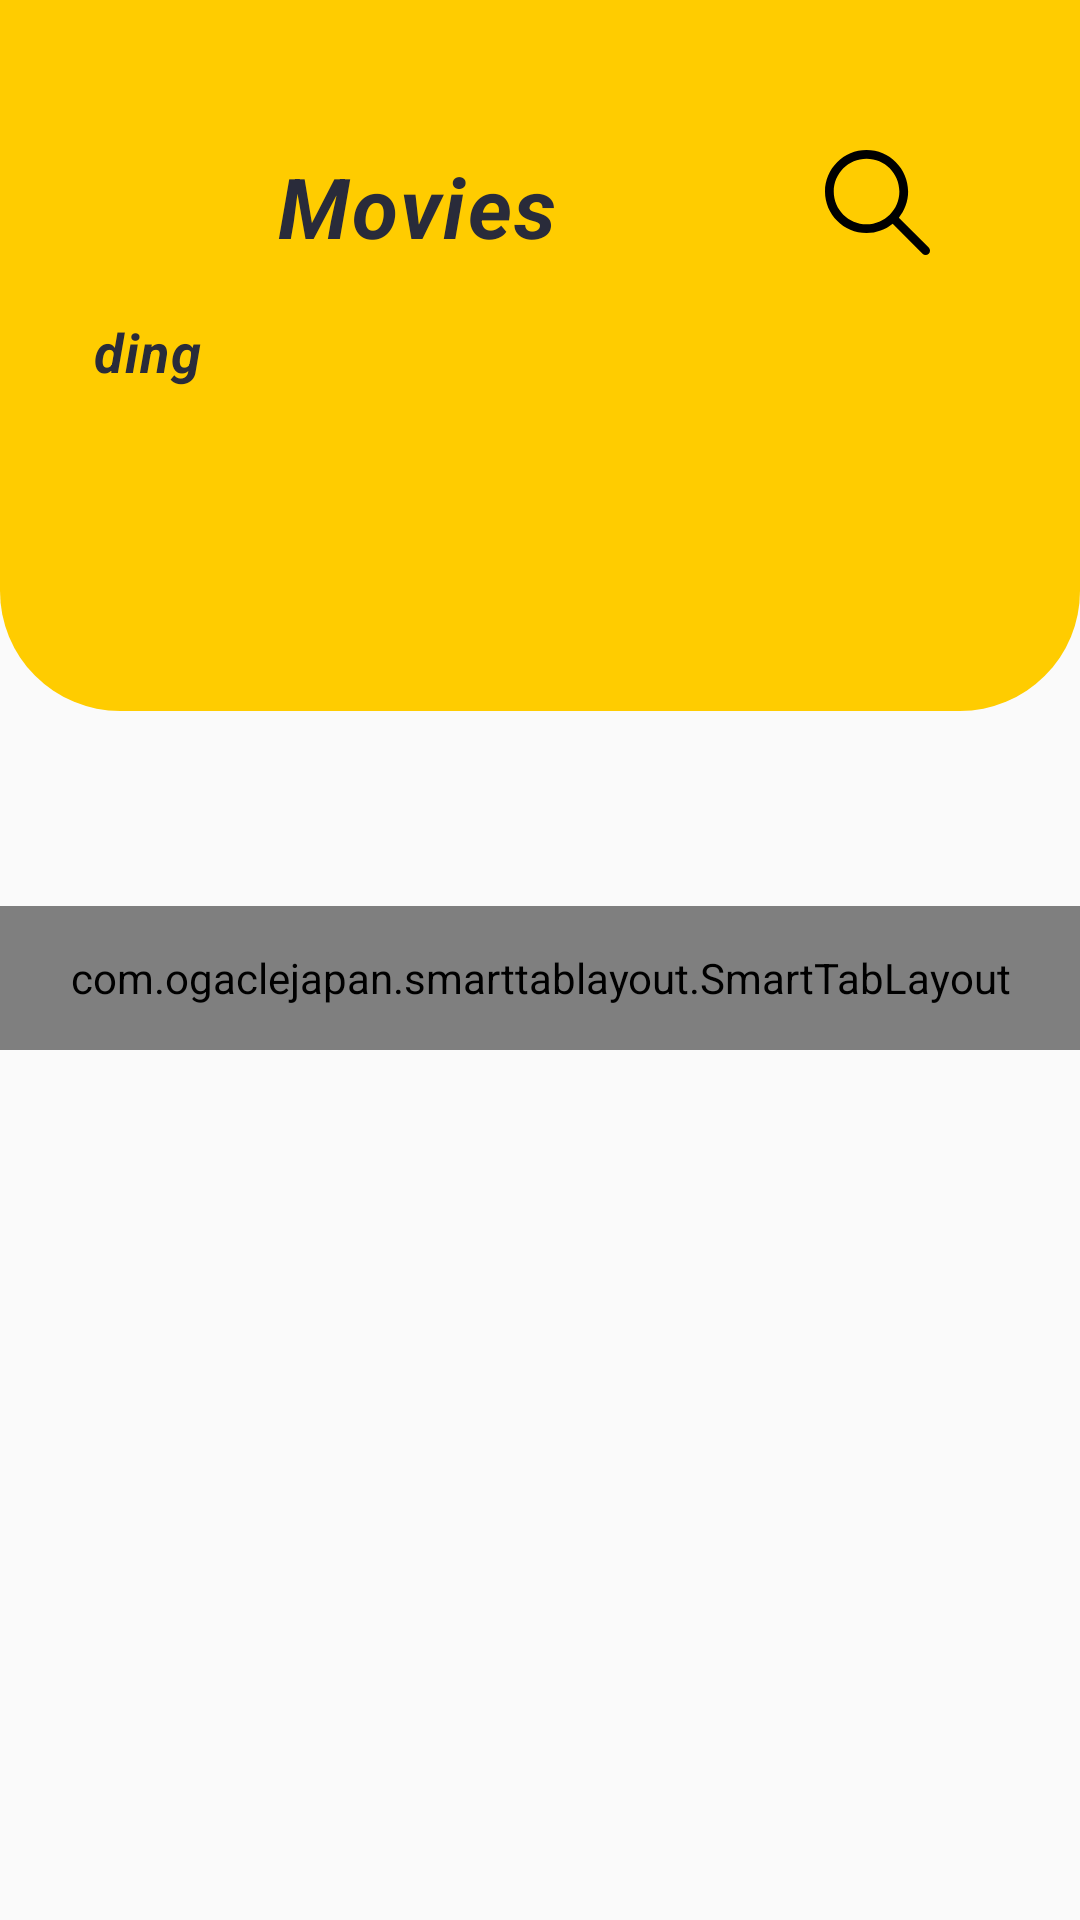

Named icons in this screenshot (1080*1920) and their bounding boxes, (x1, y1, x2, y2):
search: (825, 150, 930, 255)
